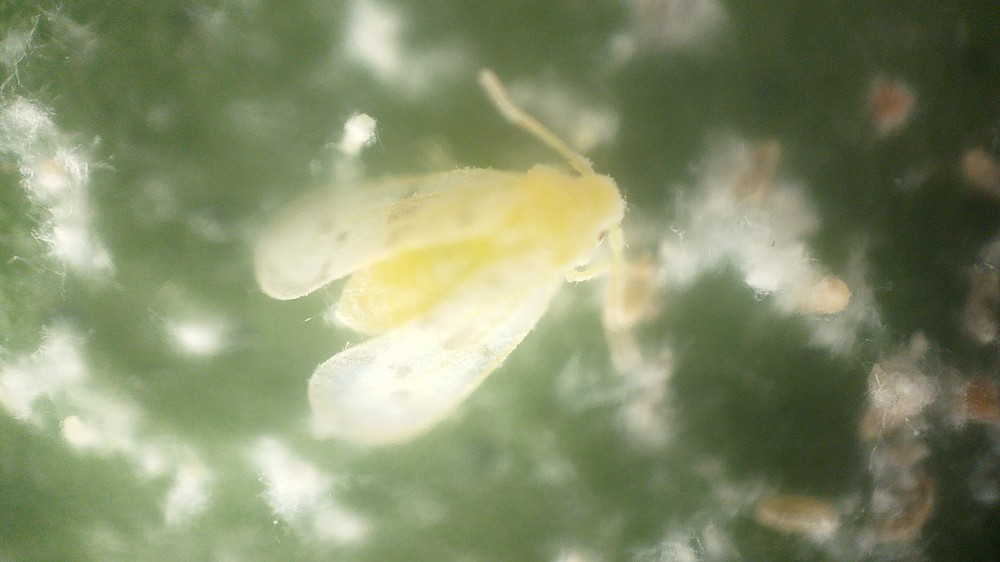Mosca Blanca: (242, 66, 661, 468)
